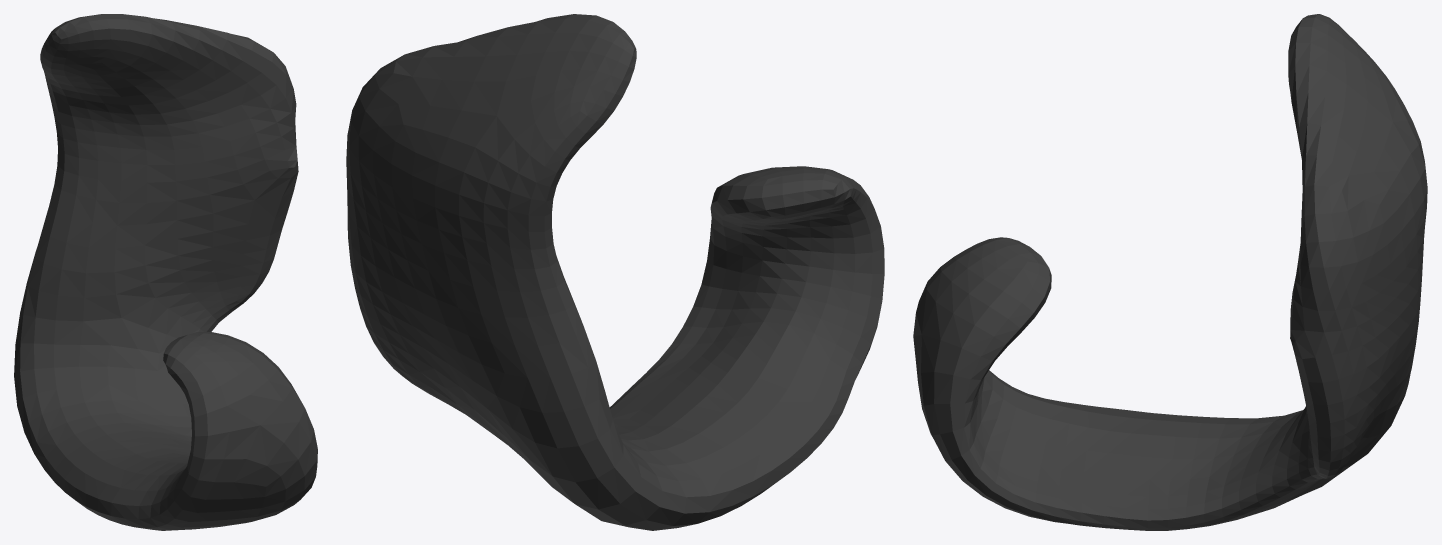
File: spleen_LP.glb
3 renders of one model, left to right at view 1: azimuth 30°, elevation 25°; view 2: azimuth 150°, elevation 25°; view 3: azimuth 270°, elevation 25°, orthographic. The views are drawn at different scales.
Parts seen in each view (by area): view 1: spleen_LP; view 2: spleen_LP; view 3: spleen_LP.
Part boxes in pixels (x1,y1,x2,y2): spleen_LP: (14,14,317,530); spleen_LP: (346,14,884,530); spleen_LP: (913,14,1427,530).
Bounding box in the file's own units: 2.35 × 3.32 × 3.15.
Materials: 1 (1 with a texture image).
